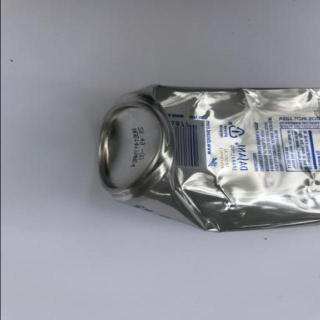Anorganik: (92, 78, 316, 240)
